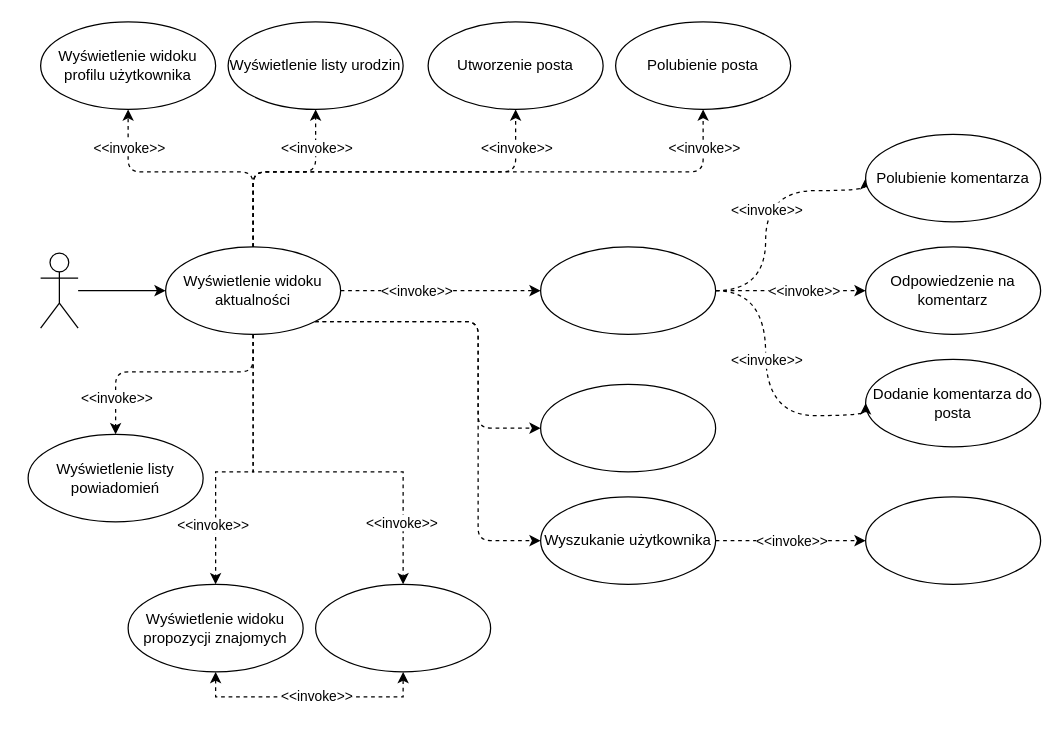
Some shapes in this 1063 by 730 pixel diagram are drawn without their labels. The shapes that lost their labels are listed below. From the top down, each one's box as (x1, y1, x2, y2) in pixels, then its label:
(39, 252, 78, 328): Użytkownik
(539, 246, 716, 334): Wyświetlenie listy komentarzy do posta
(539, 383, 716, 472): Udostępnienie posta
(864, 496, 1041, 584): Wyświetlenie listy wyszukanych użytkowników
(314, 583, 491, 672): Wyświetlenie widoku zaproszeń do znajomych
